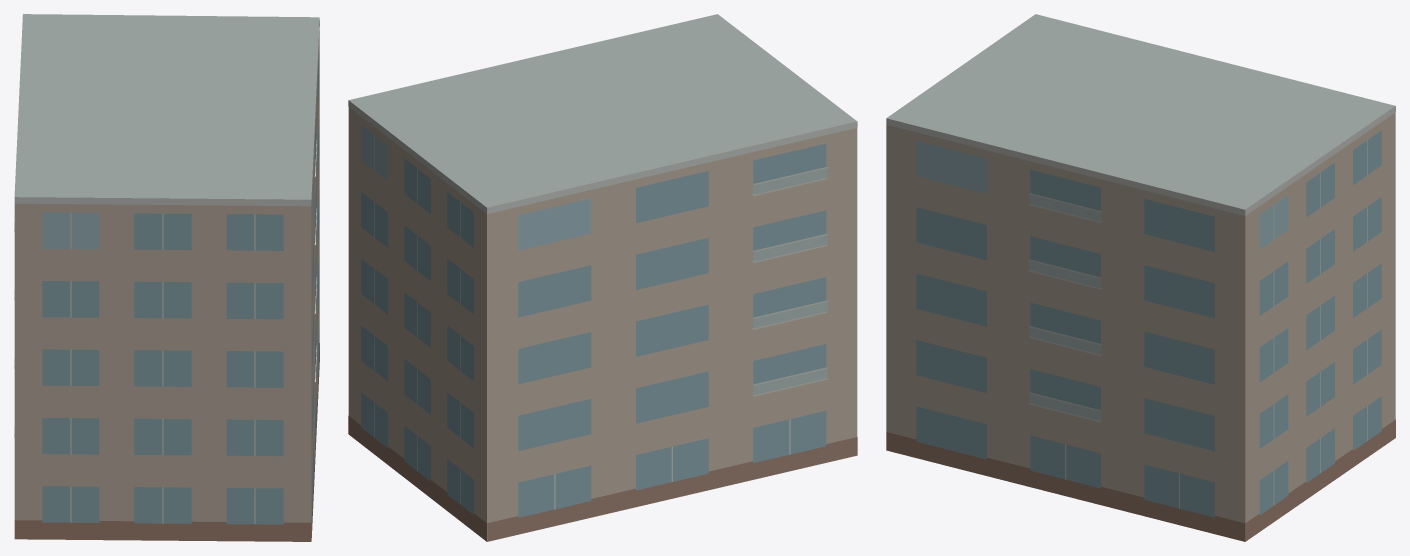
Rendered from survey-upis-32771625.glb.
The picture shows the model from 3 angles, left to right: view 1: azimuth 30°, elevation 25°; view 2: azimuth 150°, elevation 25°; view 3: azimuth 270°, elevation 25°; orthographic projection. The views are drawn at different scales.
Parts seen in each view (by area): view 1: survey-upis-32771625.tmp; view 2: survey-upis-32771625.tmp; view 3: survey-upis-32771625.tmp.
Boxes of the visible parts, box(x1,y1,x2,y2) form: survey-upis-32771625.tmp: box(14, 14, 319, 541); survey-upis-32771625.tmp: box(348, 14, 857, 541); survey-upis-32771625.tmp: box(886, 14, 1395, 541).
Size of the model in its own units: 16.11 by 12.74 by 17.72.
